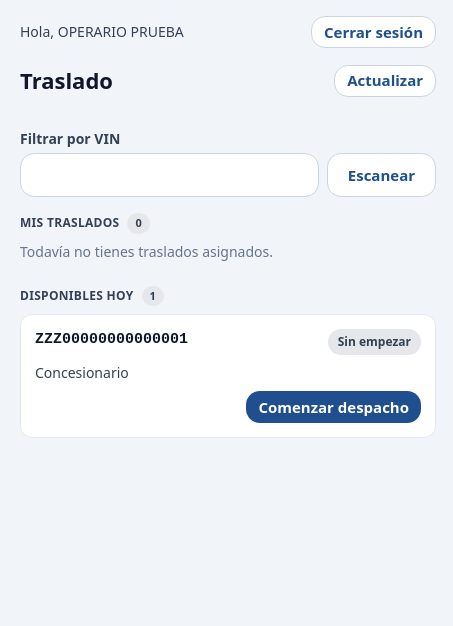
it: un VIN cuya orden ya salió (otra persona) › una orden ya entregada se dice como entregada
The image size is (453, 626).
Expected: the text "ZZZ00000000000001" is shown, [35, 329, 188, 352]
Type "LVTDD24B6VDC81445" into the search field labelled "Filtrar por VIN" at x=169, y=175, box [20, 153, 319, 197]
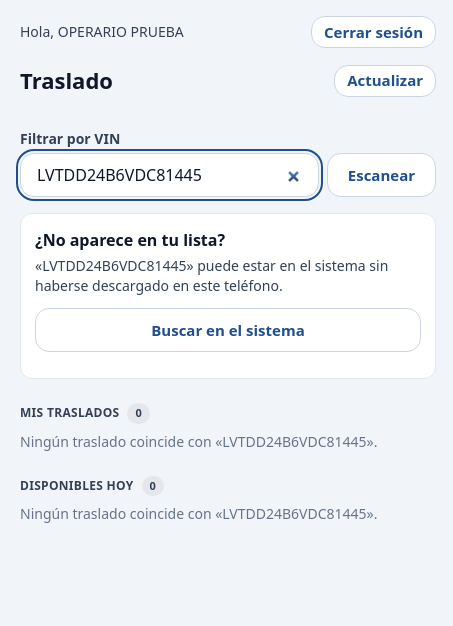
Click the button "Buscar en el sistema" at x=228, y=330, box [35, 308, 421, 352]
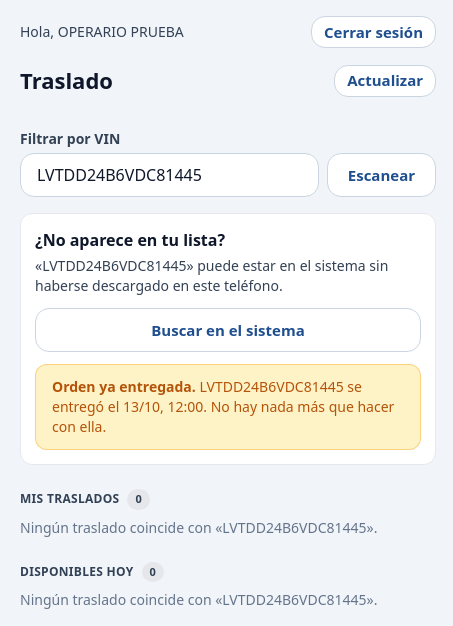
Expected: the text "Orden ya entregada." is shown, [52, 377, 196, 396]
